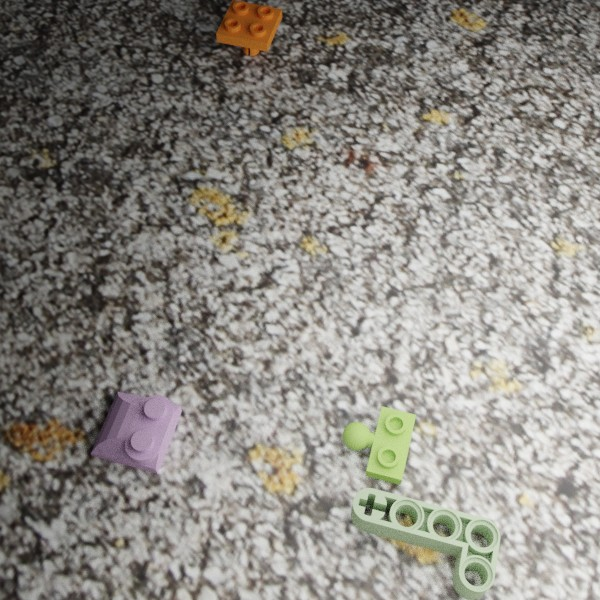lego: (350, 488, 500, 600), (90, 391, 181, 474), (342, 406, 416, 484), (216, 0, 282, 55)
